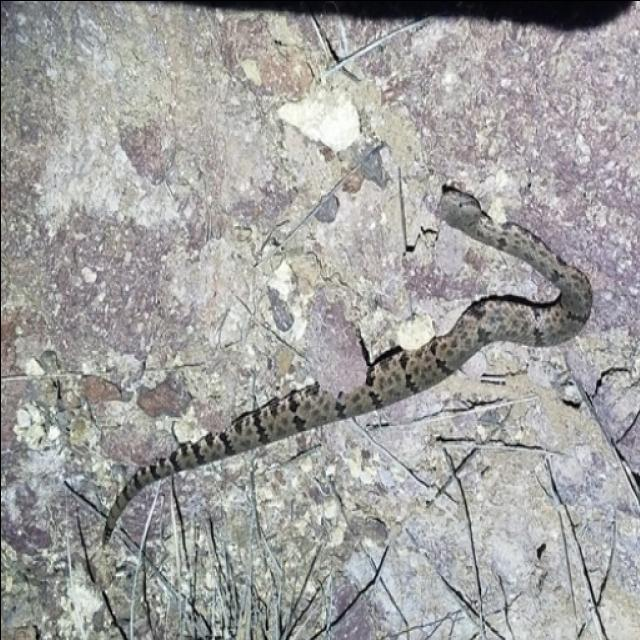snake: (86, 175, 586, 540)
